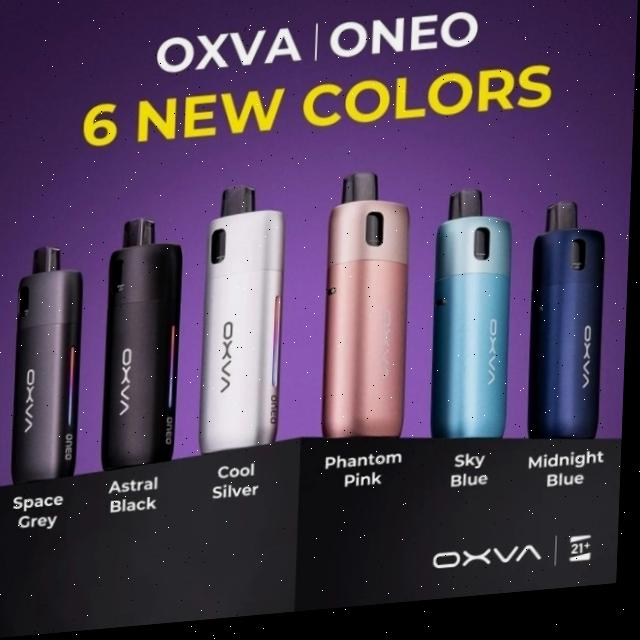vape: (324, 173, 417, 451), (199, 187, 291, 460), (103, 217, 188, 475), (432, 195, 517, 453), (529, 208, 611, 454), (12, 242, 88, 487)
